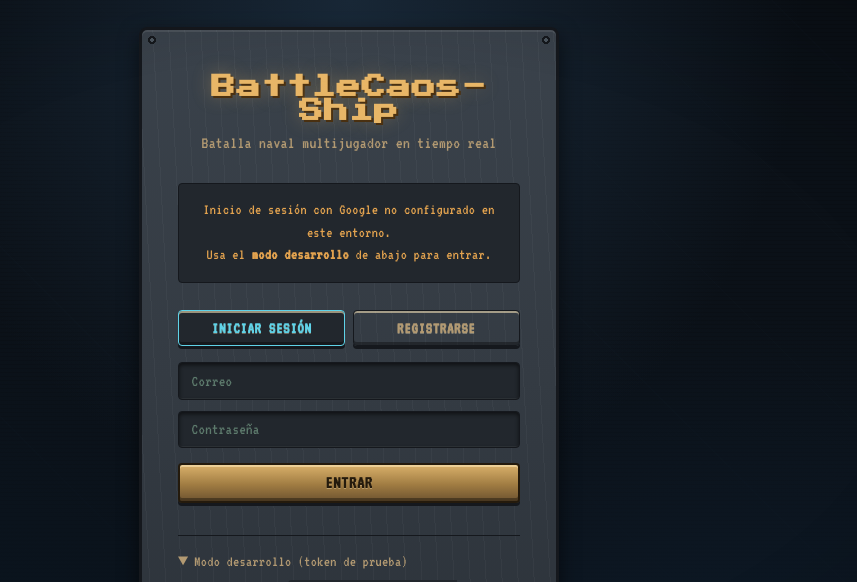
LoginPage › cambiar de pestaña limpia el mensaje de error local previo
Type "ana@test.com" into the field with placeholder "Correo". click: (349,381)
box: 178,362 -> 520,400
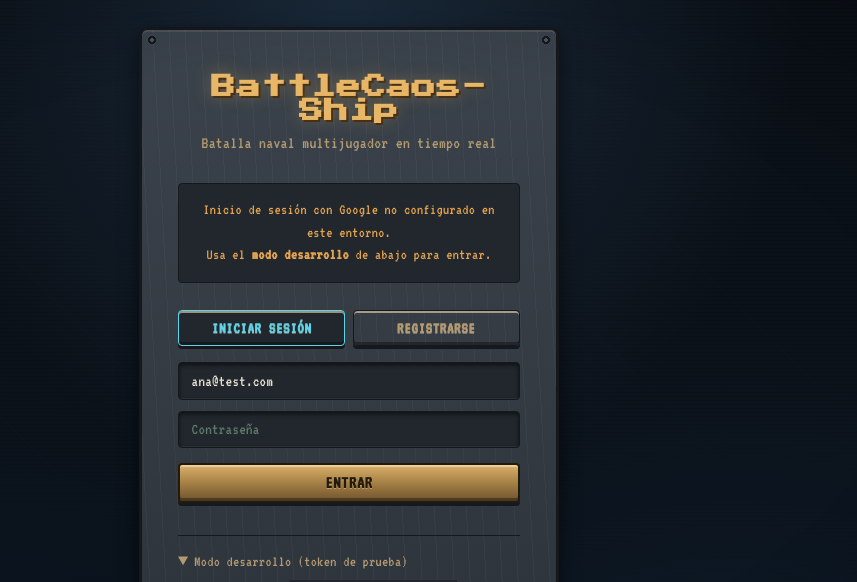
Type "malapass" into the password field with placeholder "Contraseña". click: (349,429)
box: 178,410 -> 520,448
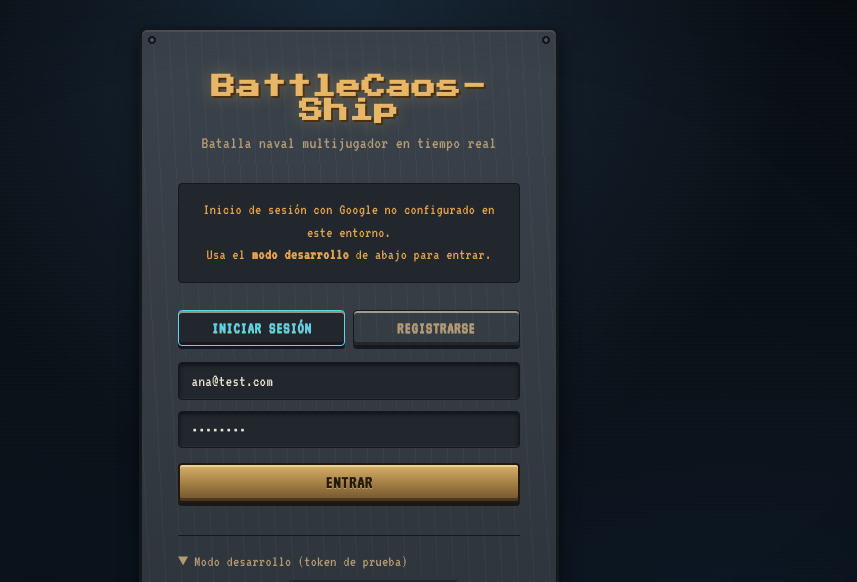
Click the button "Entrar". click: (349,483)
box: 178,463 -> 520,503
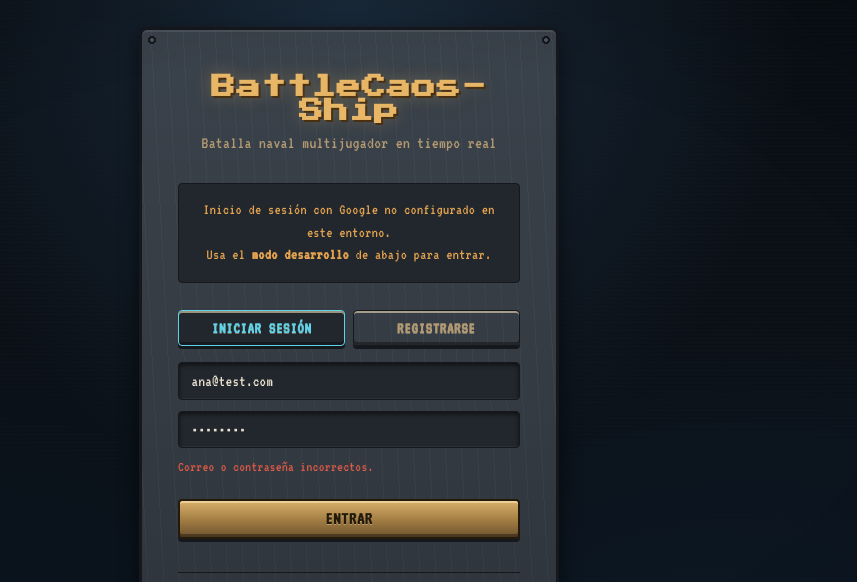
Result: the message reads "Correo o contraseña incorrectos." at 178,459 -> 374,474
Click the button "Registrarse". click: (436,328)
box: 353,310 -> 520,346
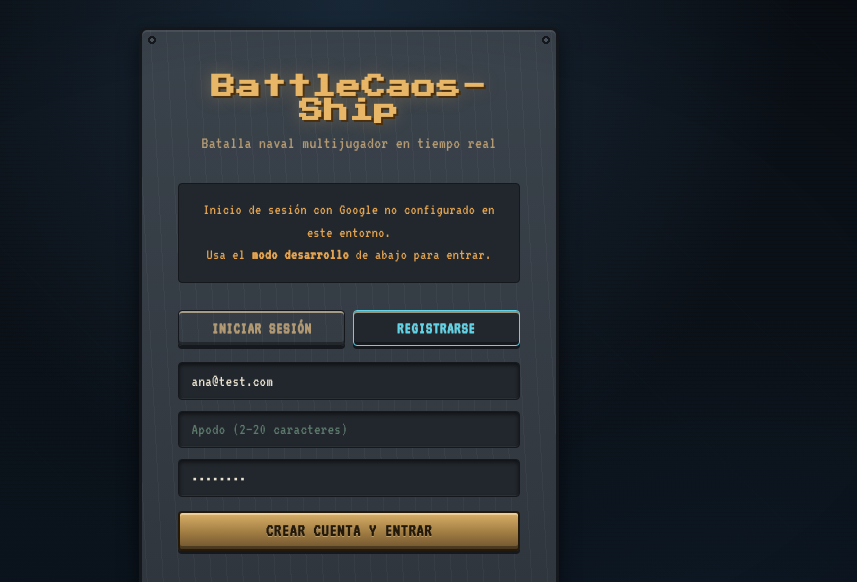
Result: the message "Correo o contraseña incorrectos." is gone
